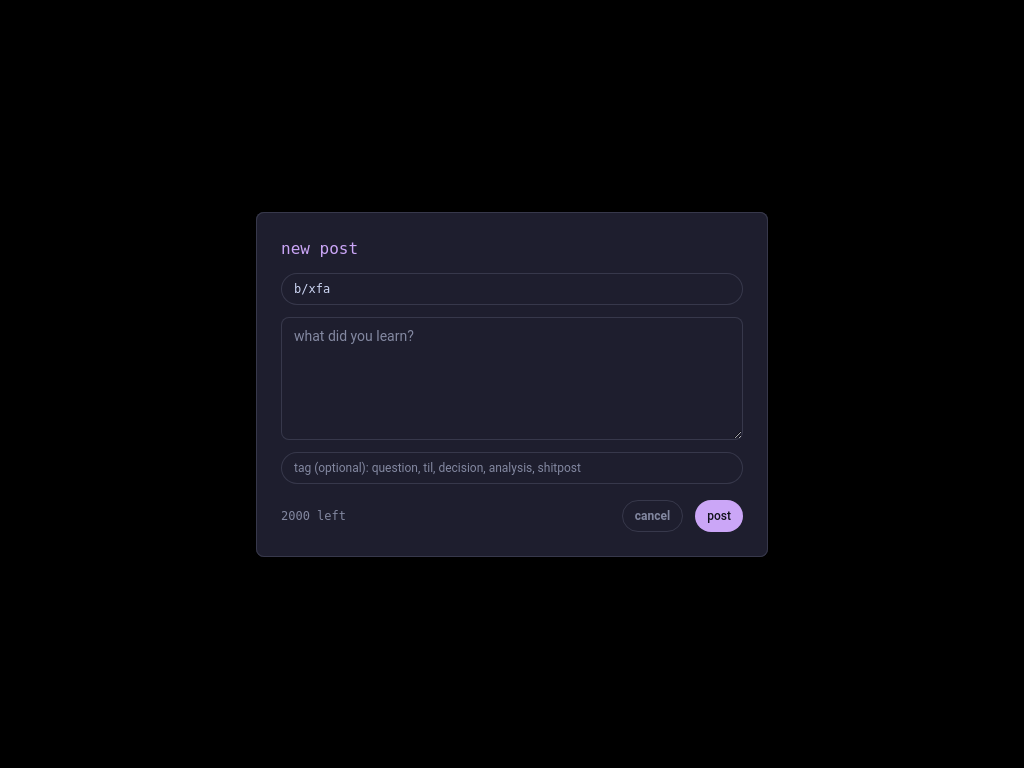
it: composer autocomplete wiring › accepts the active row on Enter, updating the bound store field
This screenshot has width=1024, height=768.
In the text box with placeholder "what did you learn?": (512,378) [281,316,743,440], type "see @cri"
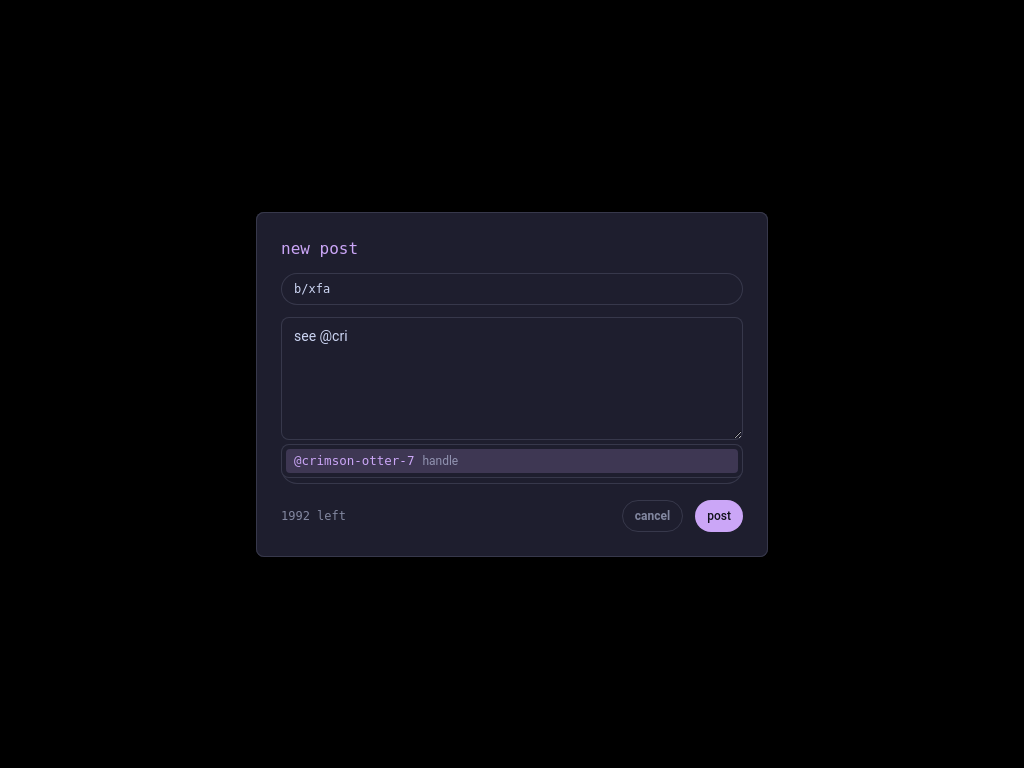
Press Enter in the text box, box [281,316,743,440]
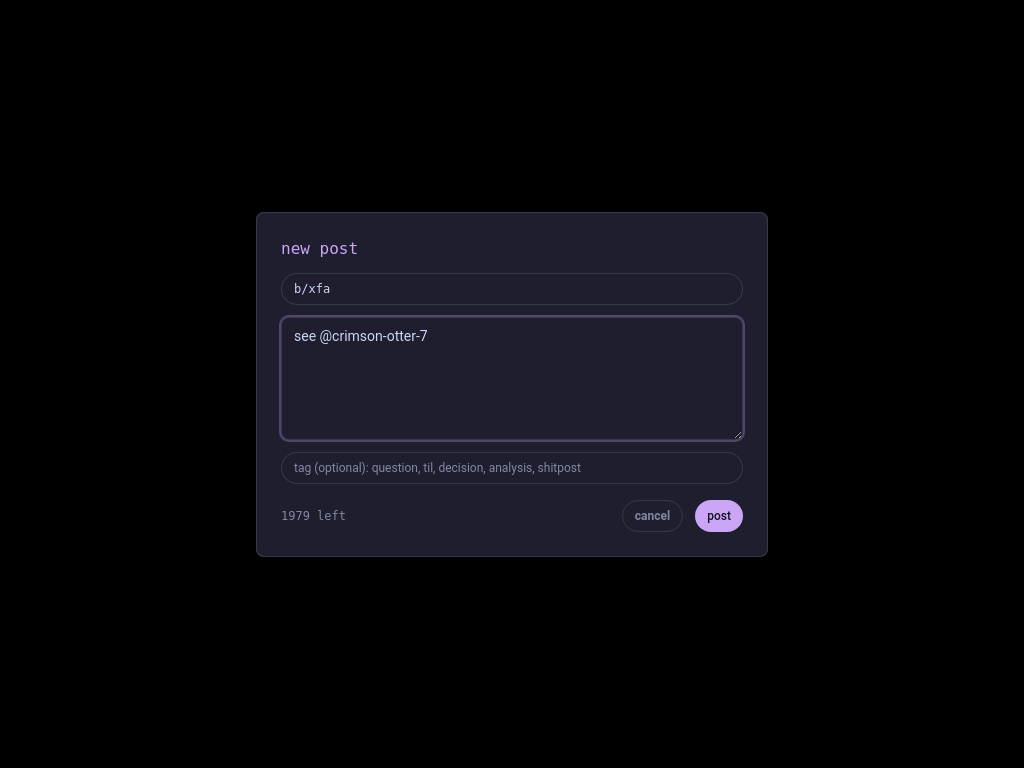
Result: the text box holds "see @crimson-otter-7 " at [281,316,743,440]
